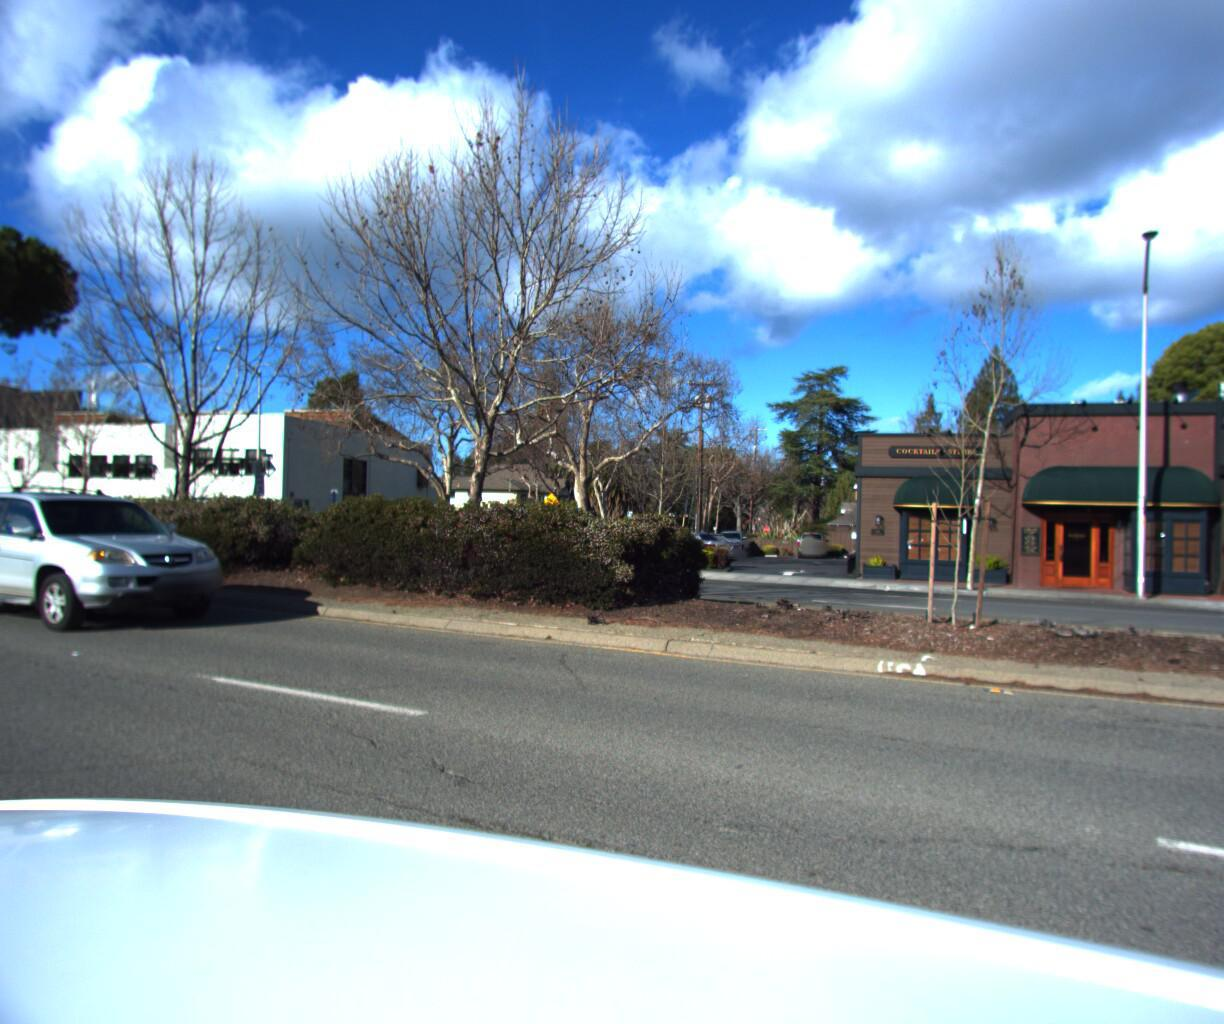car: (653, 529, 745, 567), (710, 531, 751, 560), (796, 532, 829, 560)
